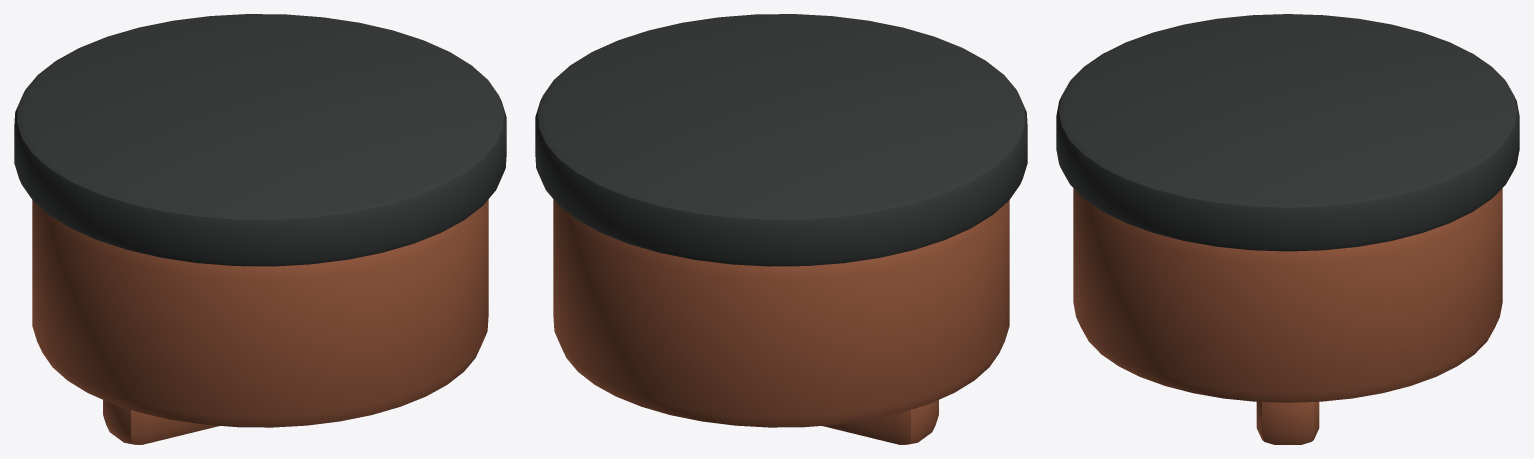
File: microwave_power_dial.glb
3 views of the same model, side by side, from view 1: azimuth 30°, elevation 25°; view 2: azimuth 150°, elevation 25°; view 3: azimuth 270°, elevation 25° (orthographic). The views are drawn at different scales.
Visible parts, largest first — view 1: microwave_power_dial_x; view 2: microwave_power_dial_x; view 3: microwave_power_dial_x.
Boxes of the visible parts, bbox=[...] form: microwave_power_dial_x: bbox=[14, 14, 506, 444]; microwave_power_dial_x: bbox=[535, 14, 1027, 444]; microwave_power_dial_x: bbox=[1056, 14, 1519, 444].
Bounding box in the file's own units: 0.0518 × 0.034 × 0.0518.
